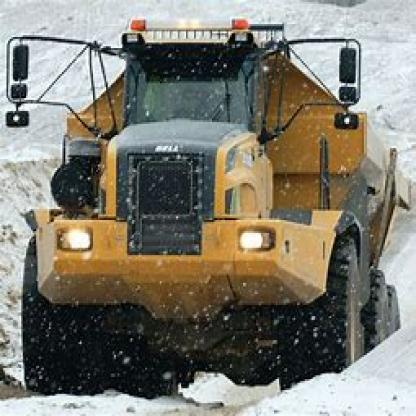dump_truck: (4, 7, 410, 386)
